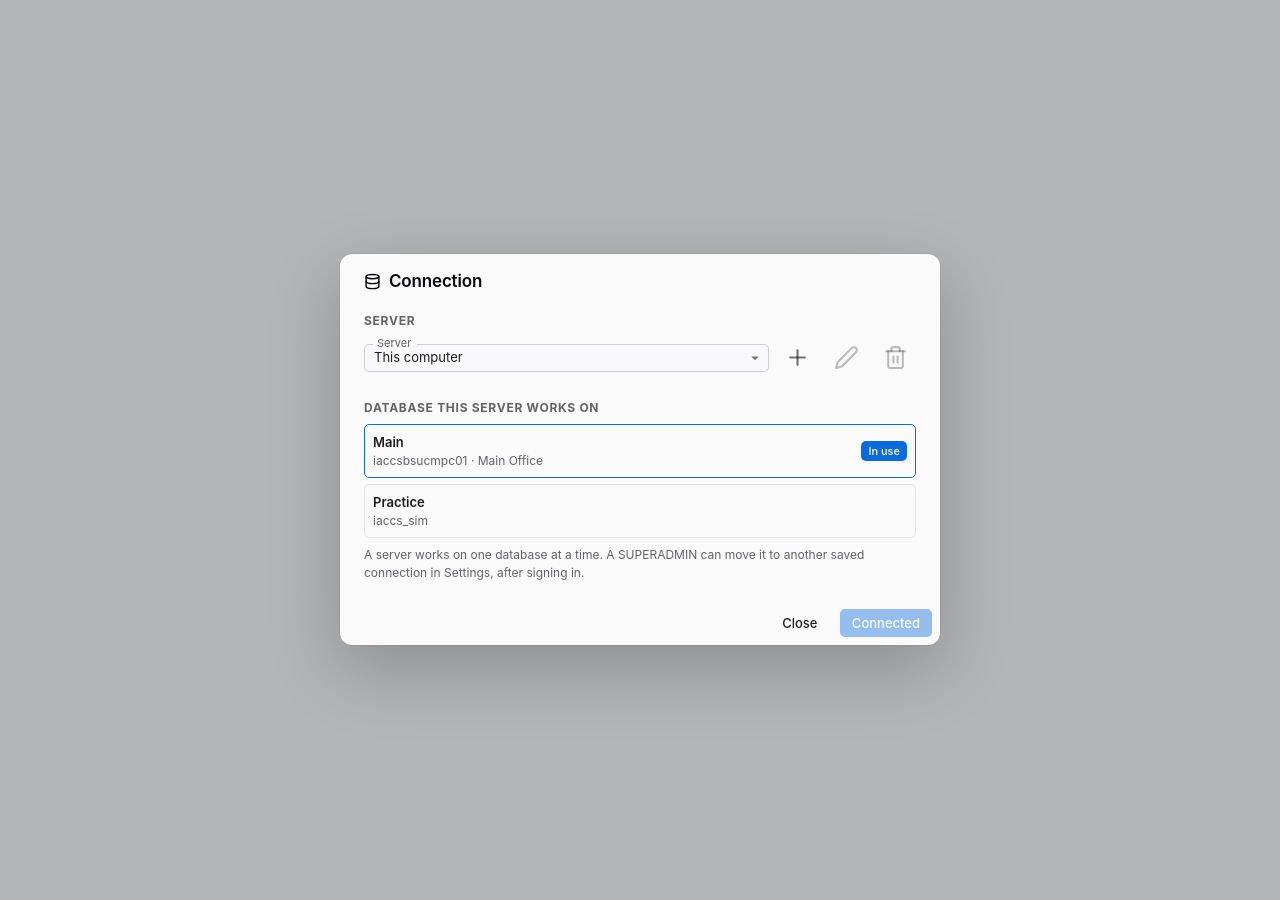
Test: sign-in connection window › adds a server, refuses a bad address, and does not offer to change the built-in one
Expected: the list named "Saved database connections" is shown, [364, 424, 916, 539]
Expected: the button named "Edit this server" is disabled, [826, 338, 867, 379]
Click the button named "Add a server": coordinates (797, 358) [777, 338, 818, 379]
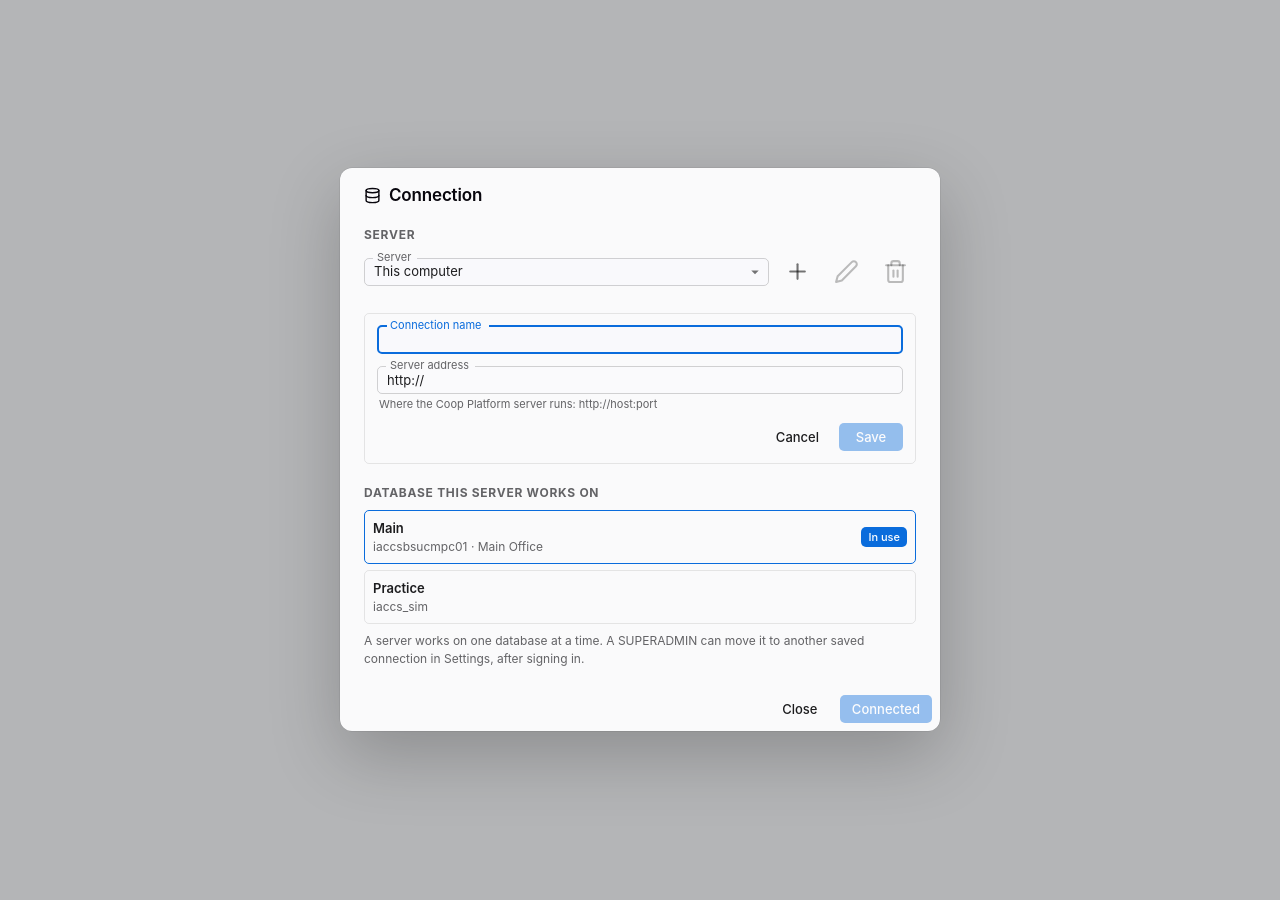
In the field labelled "Connection name": coordinates (640, 340) [377, 326, 903, 354], type "Office"
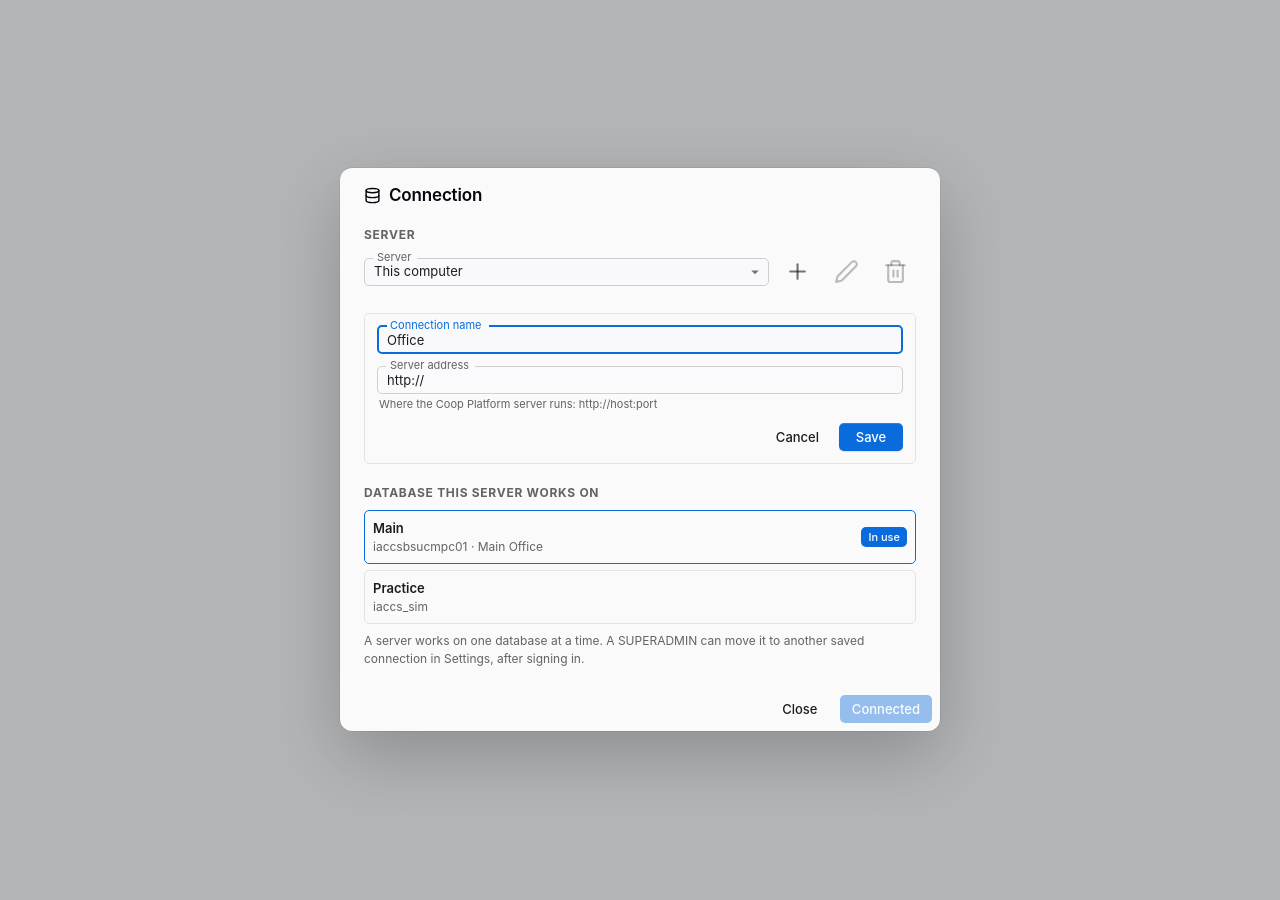
Replace the text in the field labelled "Server address" with "ftp://nope": coordinates (640, 380) [377, 366, 903, 394]
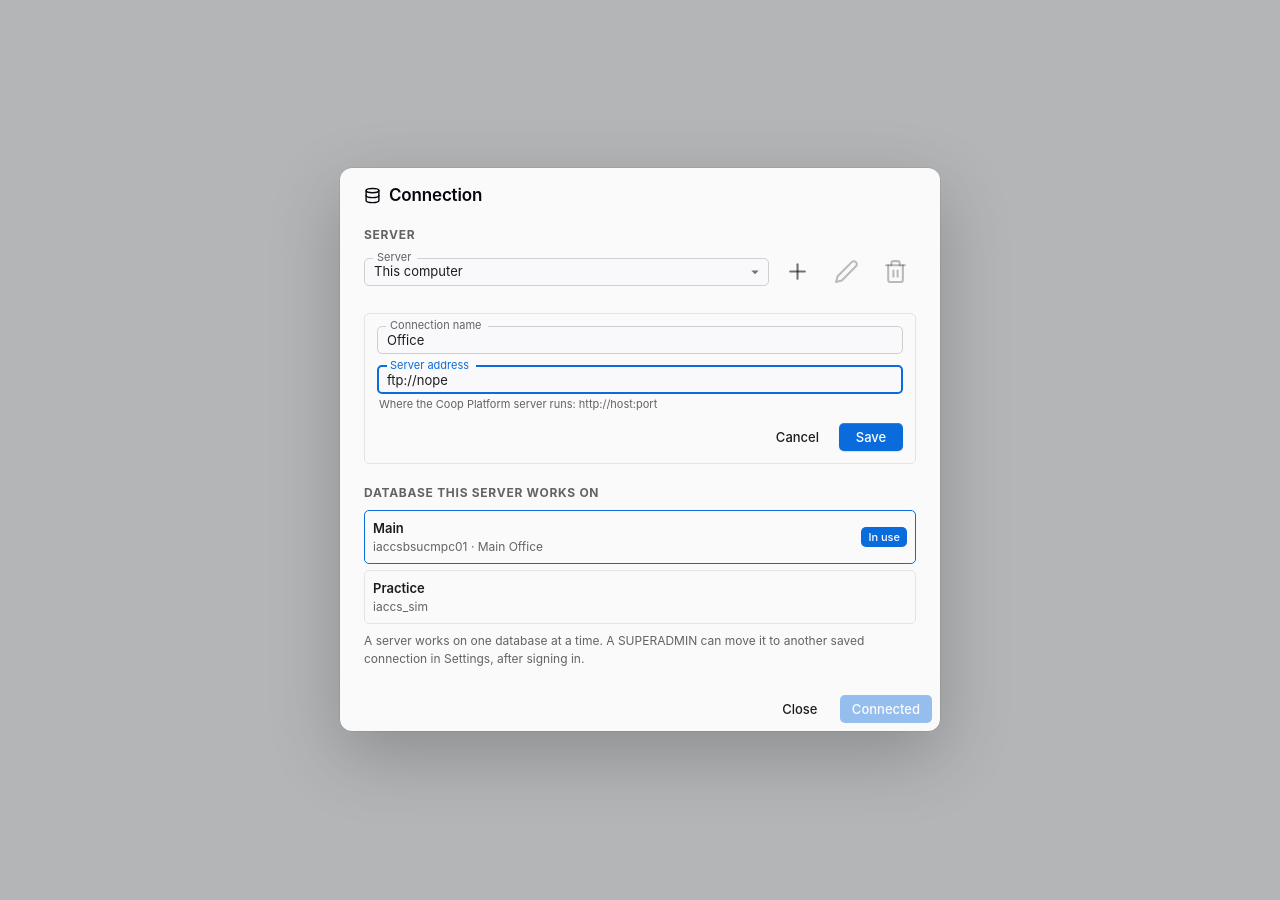
Click the button "Save": coordinates (871, 438) [839, 424, 903, 452]
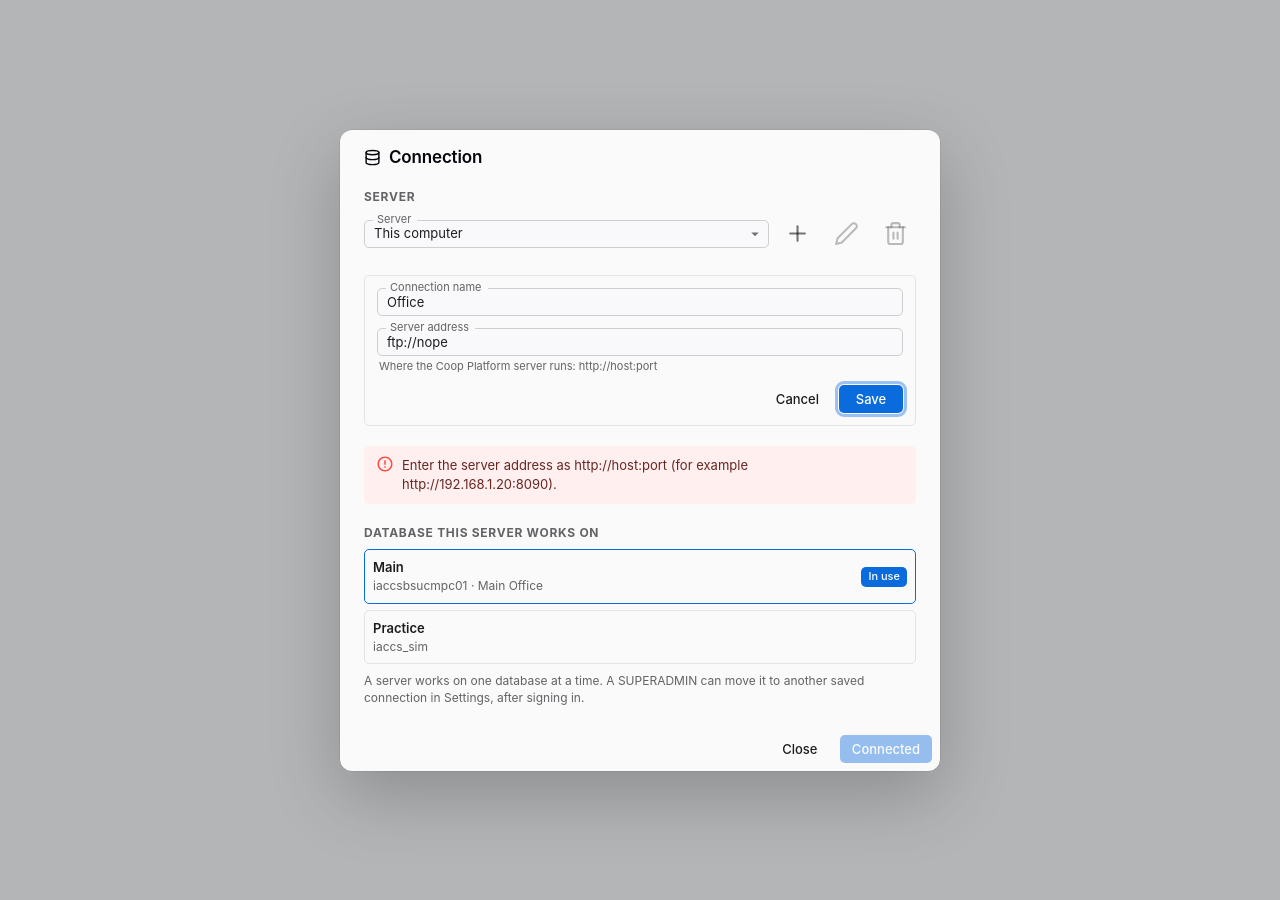
Result: the message shows "http://host:port" at [402, 457, 748, 492]
Replace the text in the field labelled "Server address" with "http://192.168.1.20:8090": coordinates (640, 341) [377, 327, 903, 355]
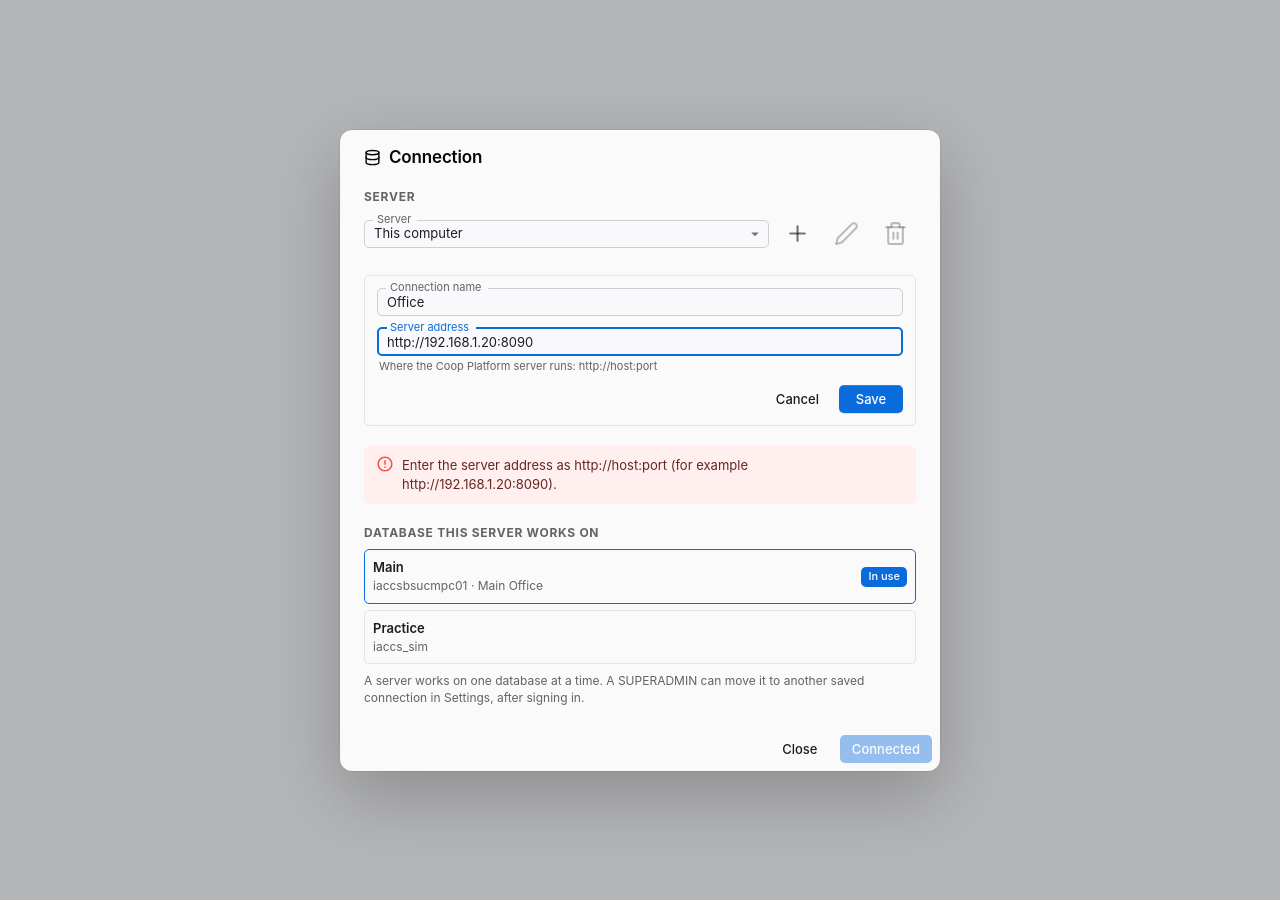
Click the button "Save": coordinates (871, 399) [839, 385, 903, 413]
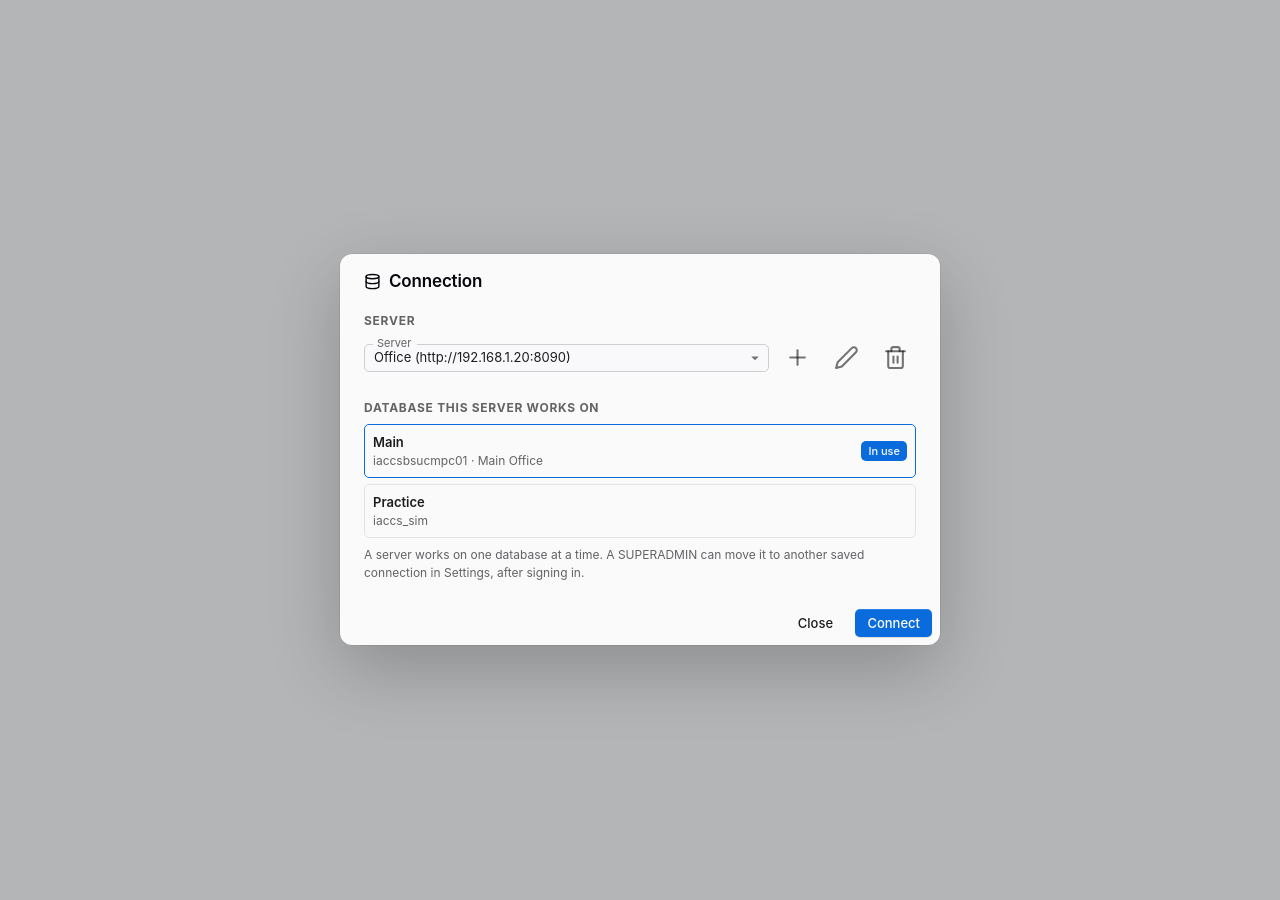
Result: the button "Connect" is enabled at [855, 610, 932, 638]
